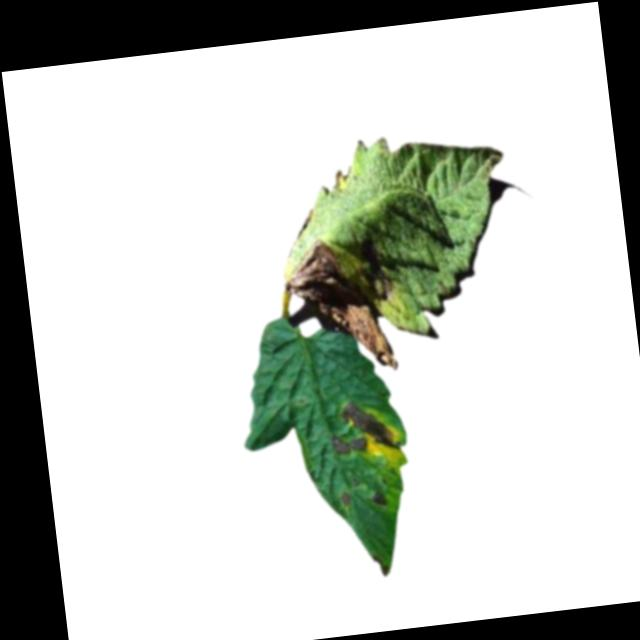Early_blight: (280, 230, 397, 382), (340, 394, 401, 458), (328, 432, 368, 458), (338, 491, 352, 511)
